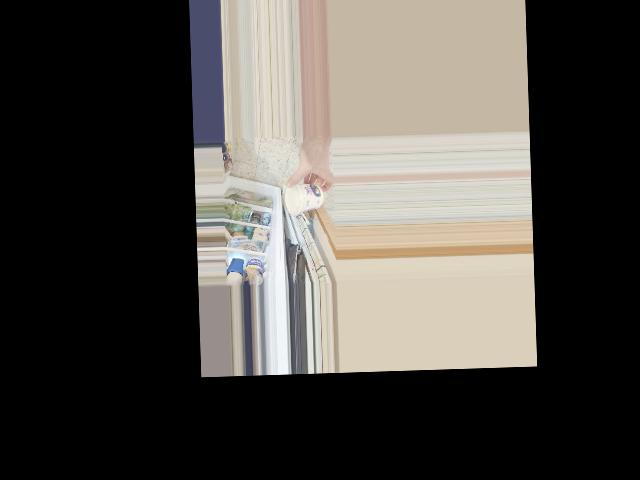cotage: (282, 181, 322, 214)
